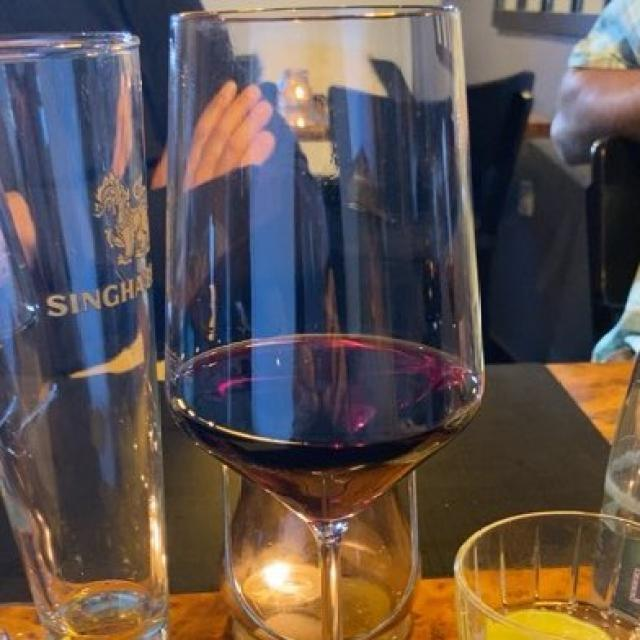wine: (171, 336, 475, 517)
